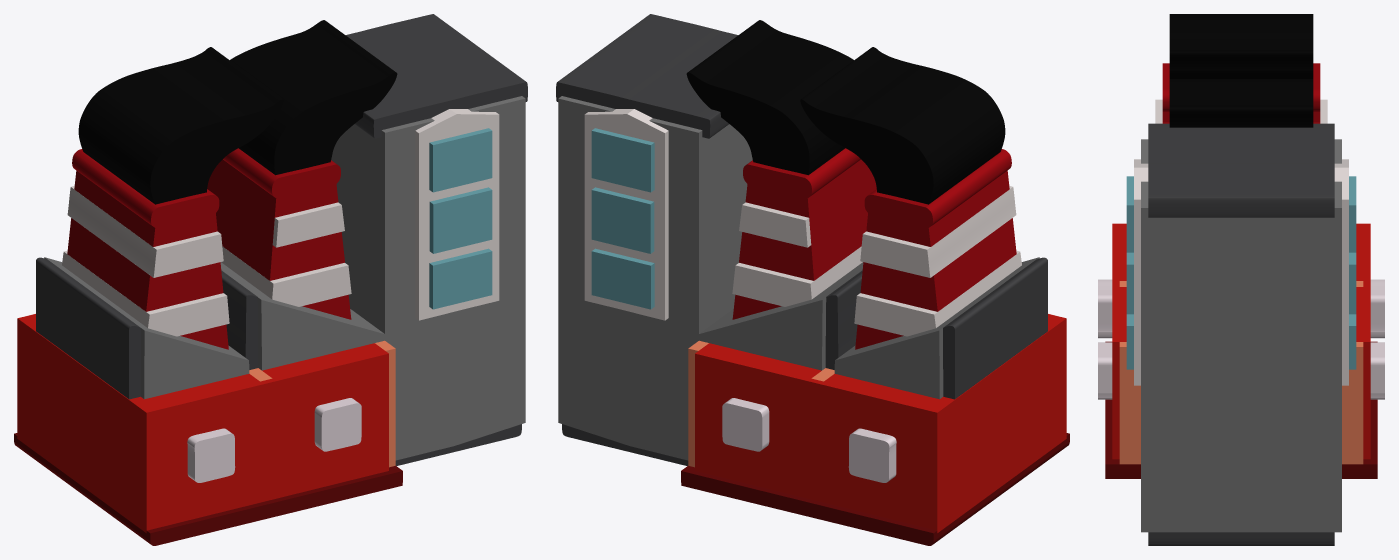
3 renders of one model, left to right at view 1: azimuth 30°, elevation 25°; view 2: azimuth 150°, elevation 25°; view 3: azimuth 270°, elevation 25°, orthographic.
Visible parts, largest first — view 1: U+1F3ED_layer04_obj01, U+1F3ED_layer08_obj00, U+1F3ED_layer00_obj00, U+1F3ED_layer00_obj01, U+1F3ED_layer01_obj00, U+1F3ED_layer03_obj02, U+1F3ED_layer01_obj01, U+1F3ED_layer03_obj00, U+1F3ED_layer05_obj00, U+1F3ED_layer09_obj00, U+1F3ED_layer04_obj00, U+1F3ED_layer02_obj02 (+10 smaller); view 2: U+1F3ED_layer04_obj01, U+1F3ED_layer08_obj00, U+1F3ED_layer00_obj00, U+1F3ED_layer00_obj01, U+1F3ED_layer01_obj00, U+1F3ED_layer03_obj02, U+1F3ED_layer01_obj01, U+1F3ED_layer03_obj00, U+1F3ED_layer05_obj00, U+1F3ED_layer09_obj00, U+1F3ED_layer04_obj00, U+1F3ED_layer02_obj02 (+10 smaller); view 3: U+1F3ED_layer04_obj01, U+1F3ED_layer03_obj02, U+1F3ED_layer00_obj00, U+1F3ED_layer00_obj01, U+1F3ED_layer08_obj00, U+1F3ED_layer07_obj00, U+1F3ED_layer05_obj00, U+1F3ED_layer03_obj01, U+1F3ED_layer09_obj00, U+1F3ED_layer10_obj00, U+1F3ED_layer10_obj01, U+1F3ED_layer06_obj03 (+4 smaller).
Part boxes in pixels (box(x1,y1,x2,y2)): U+1F3ED_layer04_obj01: box(220, 96, 525, 460); U+1F3ED_layer08_obj00: box(17, 314, 388, 532); U+1F3ED_layer00_obj00: box(78, 47, 283, 204); U+1F3ED_layer00_obj01: box(230, 20, 397, 175); U+1F3ED_layer01_obj00: box(67, 149, 228, 349); U+1F3ED_layer03_obj02: box(346, 14, 527, 138); U+1F3ED_layer01_obj01: box(207, 148, 351, 319); U+1F3ED_layer03_obj00: box(36, 257, 258, 399); U+1F3ED_layer05_obj00: box(415, 109, 499, 320); U+1F3ED_layer09_obj00: box(14, 433, 402, 545); U+1F3ED_layer04_obj00: box(44, 257, 249, 399); U+1F3ED_layer02_obj02: box(67, 186, 223, 277); U+1F3ED_layer04_obj01: box(558, 96, 863, 460); U+1F3ED_layer08_obj00: box(695, 314, 1066, 532); U+1F3ED_layer00_obj00: box(800, 47, 1005, 204); U+1F3ED_layer00_obj01: box(686, 20, 853, 175); U+1F3ED_layer01_obj00: box(855, 149, 1016, 349); U+1F3ED_layer03_obj02: box(556, 14, 737, 138); U+1F3ED_layer01_obj01: box(732, 148, 876, 319); U+1F3ED_layer03_obj00: box(825, 257, 1047, 399); U+1F3ED_layer05_obj00: box(584, 109, 668, 320); U+1F3ED_layer09_obj00: box(681, 433, 1069, 545); U+1F3ED_layer04_obj00: box(834, 257, 1039, 399); U+1F3ED_layer02_obj02: box(860, 186, 1016, 277); U+1F3ED_layer04_obj01: box(1141, 139, 1341, 532); U+1F3ED_layer03_obj02: box(1148, 123, 1334, 217); U+1F3ED_layer00_obj00: box(1169, 14, 1313, 78); U+1F3ED_layer00_obj01: box(1169, 79, 1313, 127); U+1F3ED_layer08_obj00: box(1112, 223, 1370, 459); U+1F3ED_layer07_obj00: box(1119, 342, 1363, 464); U+1F3ED_layer05_obj00: box(1134, 159, 1348, 385); U+1F3ED_layer03_obj01: box(1148, 532, 1334, 545); U+1F3ED_layer09_obj00: box(1105, 341, 1377, 478); U+1F3ED_layer10_obj00: box(1098, 279, 1384, 338); U+1F3ED_layer10_obj01: box(1098, 342, 1384, 399); U+1F3ED_layer06_obj03: box(1126, 176, 1356, 252).
Bounding box in the file's own units: 0.3215 × 0.2955 × 0.2.
